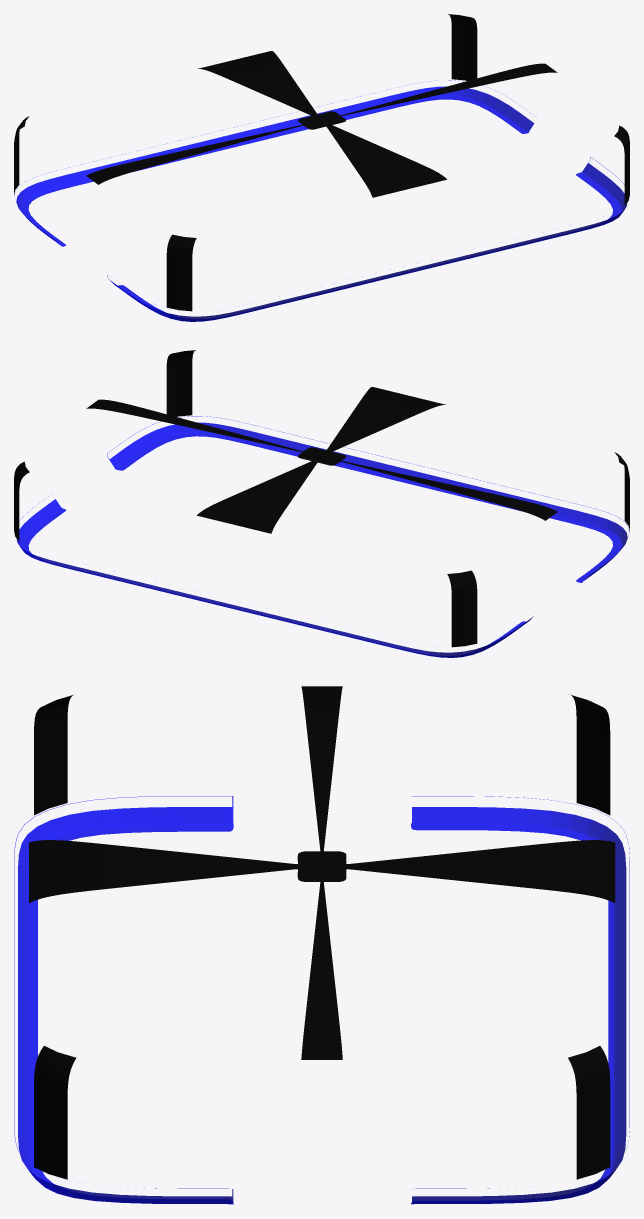
File: PartePreta.obj
3 views of the same model, one above another, from view 1: azimuth 30°, elevation 25°; view 2: azimuth 150°, elevation 25°; view 3: azimuth 270°, elevation 25° (orthographic). The views are drawn at different scales.
Visible parts, largest first — view 1: topo2, PartePretaBaixo, Cantos, RectanguloPretoAcima; view 2: PartePretaBaixo, topo2, Cantos, RectanguloPretoAcima; view 3: topo2, PartePretaBaixo, Cantos, RectanguloPretoAcima.
Part boxes in pixels (x1=…): topo2: x1=86, y1=51, x2=557, y2=197; PartePretaBaixo: x1=15, y1=80, x2=627, y2=321; Cantos: x1=14, y1=14, x2=629, y2=311; RectanguloPretoAcima: x1=298, y1=111, x2=345, y2=129; PartePretaBaixo: x1=16, y1=416, x2=629, y2=657; topo2: x1=86, y1=387, x2=557, y2=533; Cantos: x1=14, y1=350, x2=629, y2=647; RectanguloPretoAcima: x1=298, y1=447, x2=345, y2=465; topo2: x1=29, y1=686, x2=615, y2=1059; PartePretaBaixo: x1=14, y1=796, x2=629, y2=1204; Cantos: x1=34, y1=694, x2=610, y2=1179; RectanguloPretoAcima: x1=297, y1=851, x2=346, y2=881.
Size of the model in its own units: 16.92 by 2.99 by 11.21.
